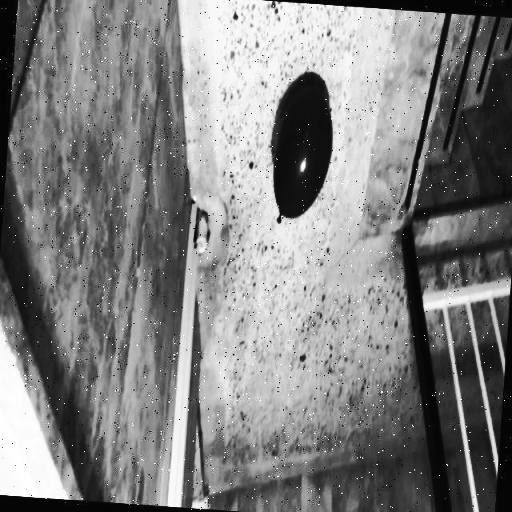balloon: (262, 70, 340, 242)
